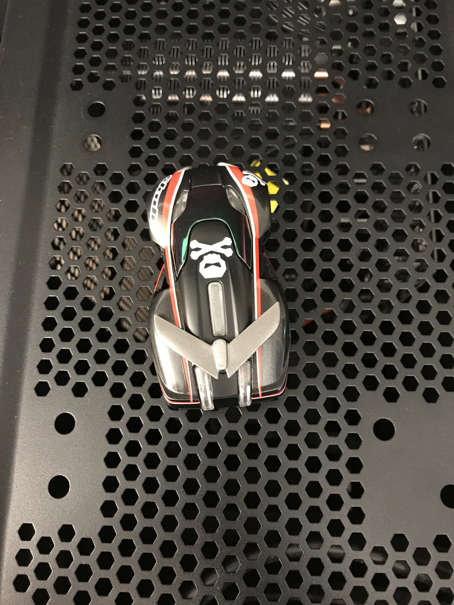Skull: (147, 161, 288, 406)
